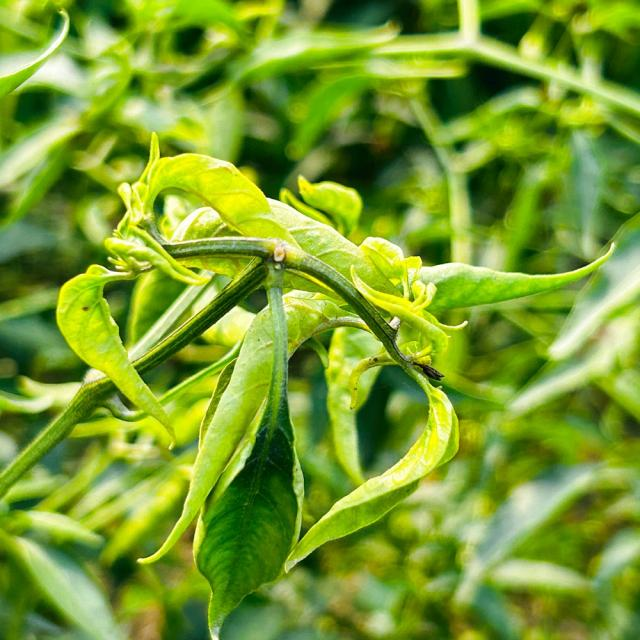Chilli_Leaf_Curl: (54, 131, 466, 637), (190, 288, 309, 637), (54, 262, 178, 450), (348, 234, 468, 384), (410, 240, 616, 312)
